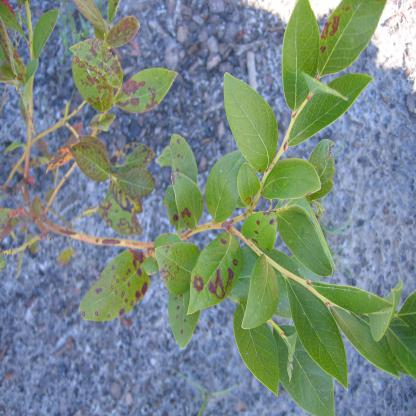Blueberry leaf: (277, 268, 360, 397), (296, 68, 389, 155), (185, 231, 249, 346), (76, 242, 159, 328), (195, 122, 251, 225), (315, 2, 393, 70), (222, 70, 275, 168), (236, 298, 285, 404), (272, 207, 340, 280), (279, 1, 323, 111), (311, 260, 397, 314), (103, 63, 185, 119), (242, 247, 281, 334), (261, 149, 321, 205), (169, 170, 205, 245), (112, 157, 163, 209), (74, 146, 112, 190)
